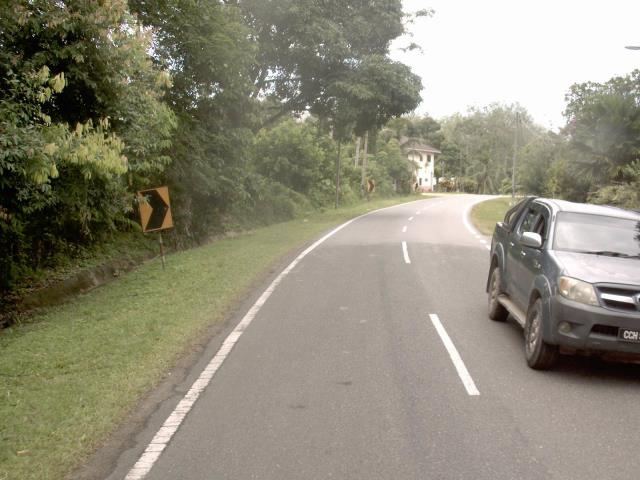traffic_sign: (129, 178, 180, 242)
